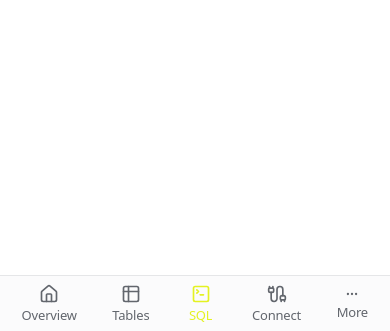
MobileBottomNav › shows primary project tools with a More overflow menu
// API Keys overflows into the More menu
Click the button "More" at (352, 304), box [324, 276, 380, 330]
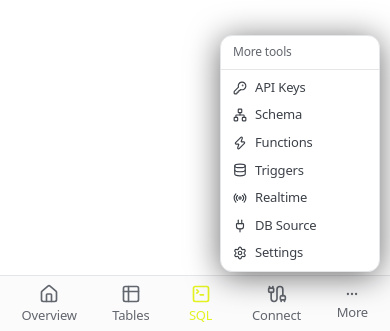
expect the menu item "API Keys" is shown: met, box [233, 78, 306, 96]
